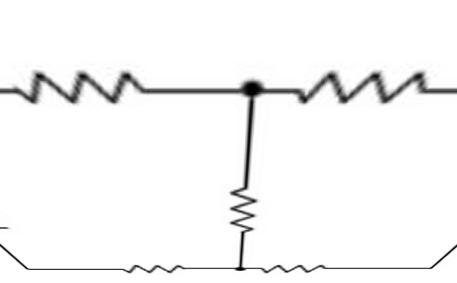resistor: (289, 45, 442, 121), (13, 49, 147, 126), (214, 177, 270, 241), (112, 251, 199, 276), (255, 253, 342, 277)
